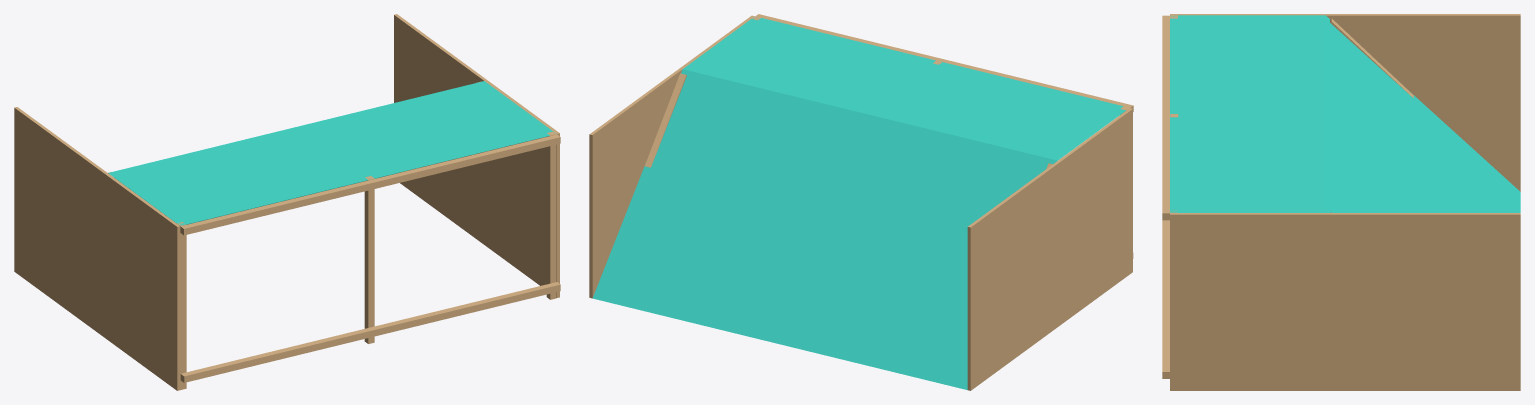
The model's file is coldframe.dae.
3 renders of one model, left to right at view 1: azimuth 30°, elevation 25°; view 2: azimuth 150°, elevation 25°; view 3: azimuth 270°, elevation 25°, orthographic. The views are drawn at different scales.
Parts seen in each view (by area): view 1: wooden_board (×10), SketchUp, gridbeam_40mm_horizontal_1.2m (×2), gridbeam_40mm_vertical_0.5m_1 (×2), gridbeam_40mm_vertical_0.5m_2; view 2: SketchUp, wooden_board (×9), gridbeam_40mm_horizontal_1.2m, gridbeam_40mm_vertical_0.5m; view 3: wooden_board (×10), SketchUp, gridbeam_40mm_horizontal_1.2m (×2), gridbeam_40mm_vertical_0.5m.
Part boxes in pixels (left/top/right/bottom): wooden_board (×10): left=14, top=14, right=559, bottom=390; SketchUp: left=108, top=81, right=555, bottom=225; gridbeam_40mm_horizontal_1.2m (×2): left=180, top=134, right=560, bottom=382; gridbeam_40mm_vertical_0.5m_1 (×2): left=177, top=176, right=374, bottom=389; gridbeam_40mm_vertical_0.5m_2: left=546, top=131, right=556, bottom=299; SketchUp: left=592, top=16, right=1125, bottom=389; wooden_board (×9): left=589, top=15, right=1132, bottom=390; gridbeam_40mm_horizontal_1.2m: left=755, top=14, right=1133, bottom=111; gridbeam_40mm_vertical_0.5m: left=645, top=73, right=686, bottom=167; wooden_board (×10): left=1170, top=14, right=1520, bottom=390; SketchUp: left=1170, top=15, right=1520, bottom=212; gridbeam_40mm_horizontal_1.2m (×2): left=1162, top=15, right=1169, bottom=378; gridbeam_40mm_vertical_0.5m: left=1330, top=18, right=1413, bottom=97.
Bounding box in the file's own units: 96.06 × 72.43 × 39.37.
